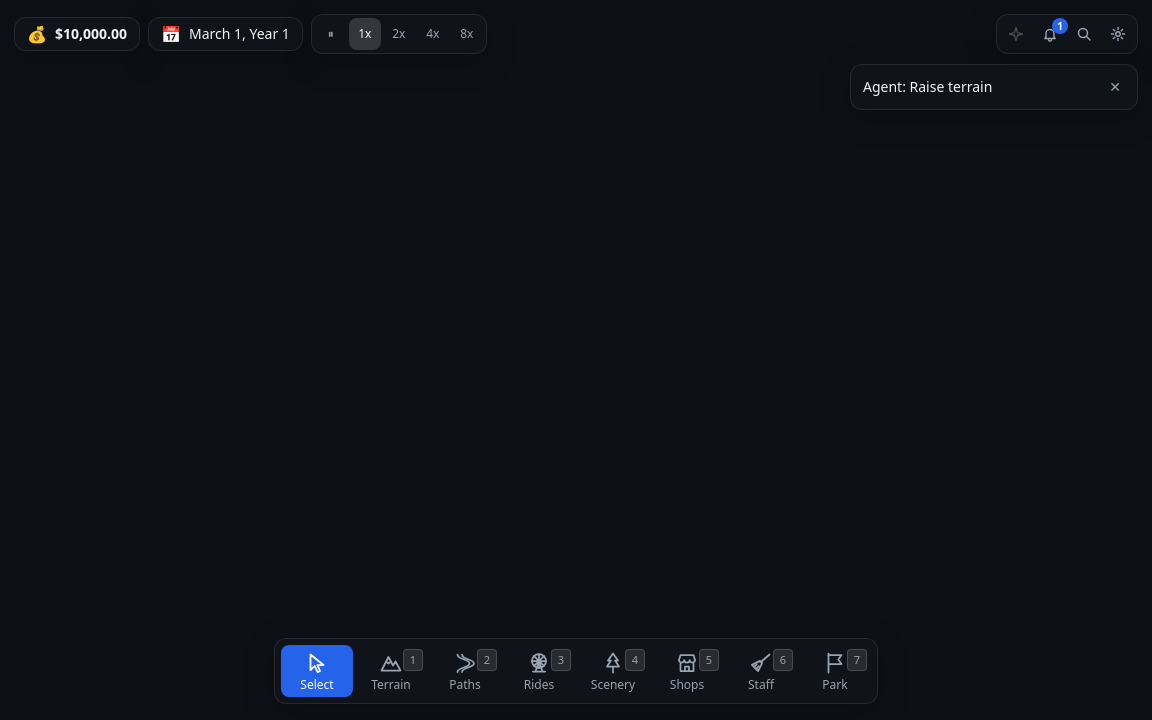
Test: the timeline tab › lists what happened, newest first, with who did it
This screenshot has width=1152, height=720.
Click the button named "Notifications": (1050, 34) [1034,18,1066,50]
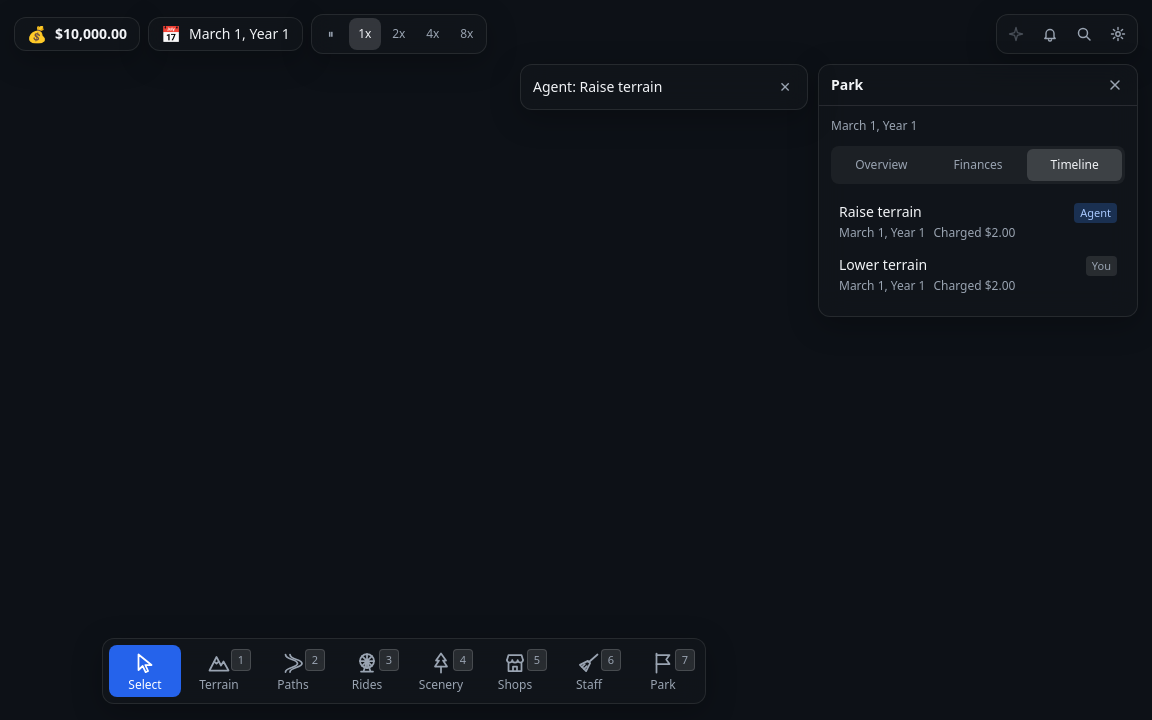
Check: the text "Agent" is shown, box [1074,203,1117,223]
Check: the text "You" is shown, box [1086,256,1117,276]
